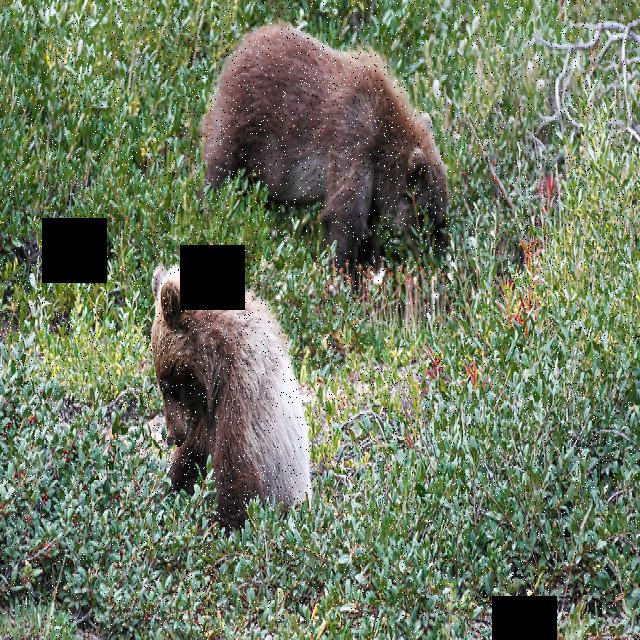Bear: (199, 21, 455, 280), (146, 244, 314, 526)
